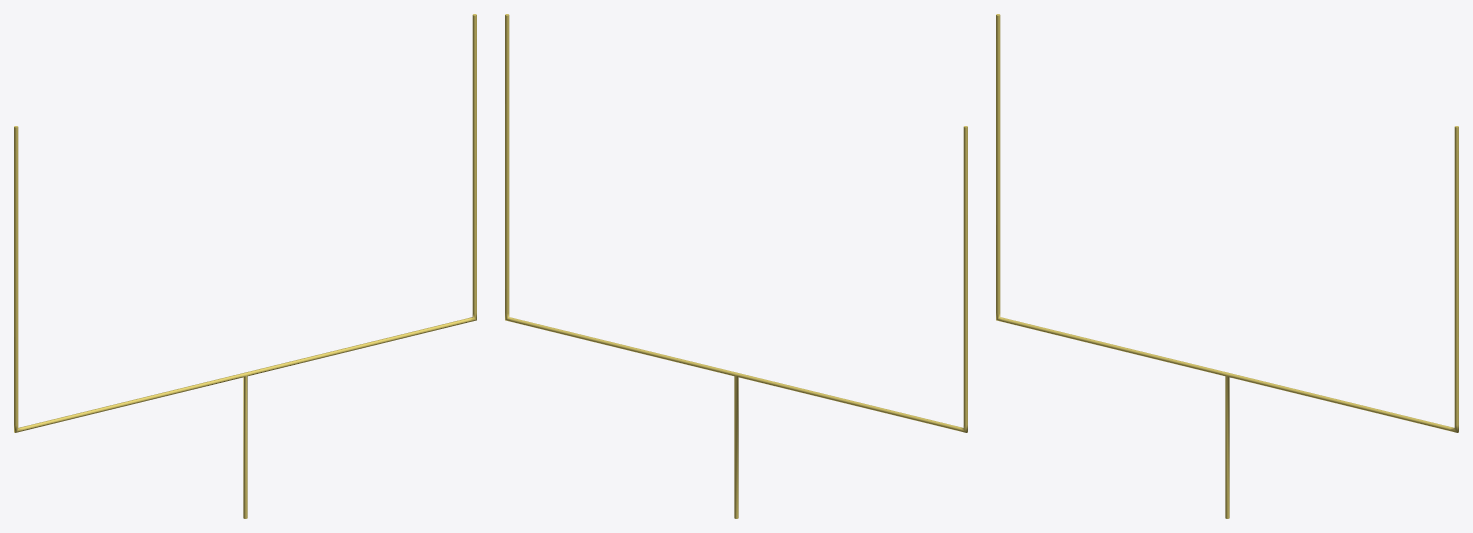
Rendered from Field_Goal.fbx.
3 renders of one model, left to right at view 1: azimuth 30°, elevation 25°; view 2: azimuth 150°, elevation 25°; view 3: azimuth 330°, elevation 25°, orthographic.
Parts seen in each view (by area): view 1: Field Goal.001; view 2: Field Goal.001; view 3: Field Goal.001.
Boxes of the visible parts, <box> form: Field Goal.001: <box>14,14,476,518</box>; Field Goal.001: <box>505,14,967,518</box>; Field Goal.001: <box>996,14,1458,518</box>.
Bounding box in the file's own units: 1855 × 1718 × 14.95.
